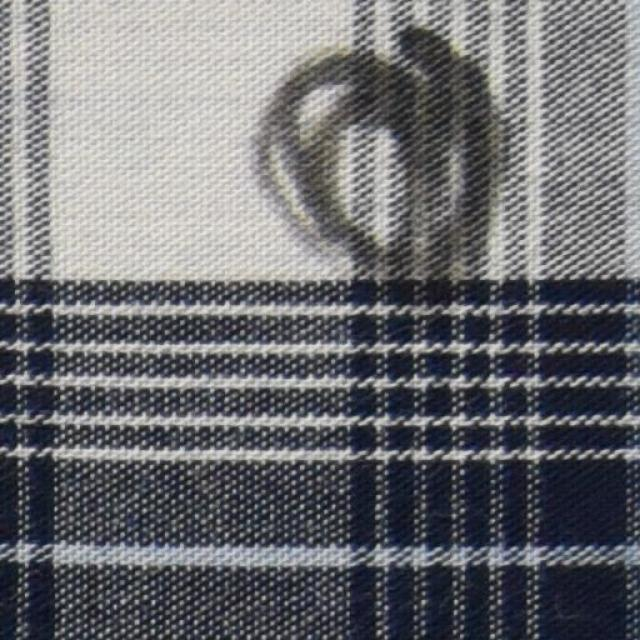Stain: (234, 28, 505, 275)
